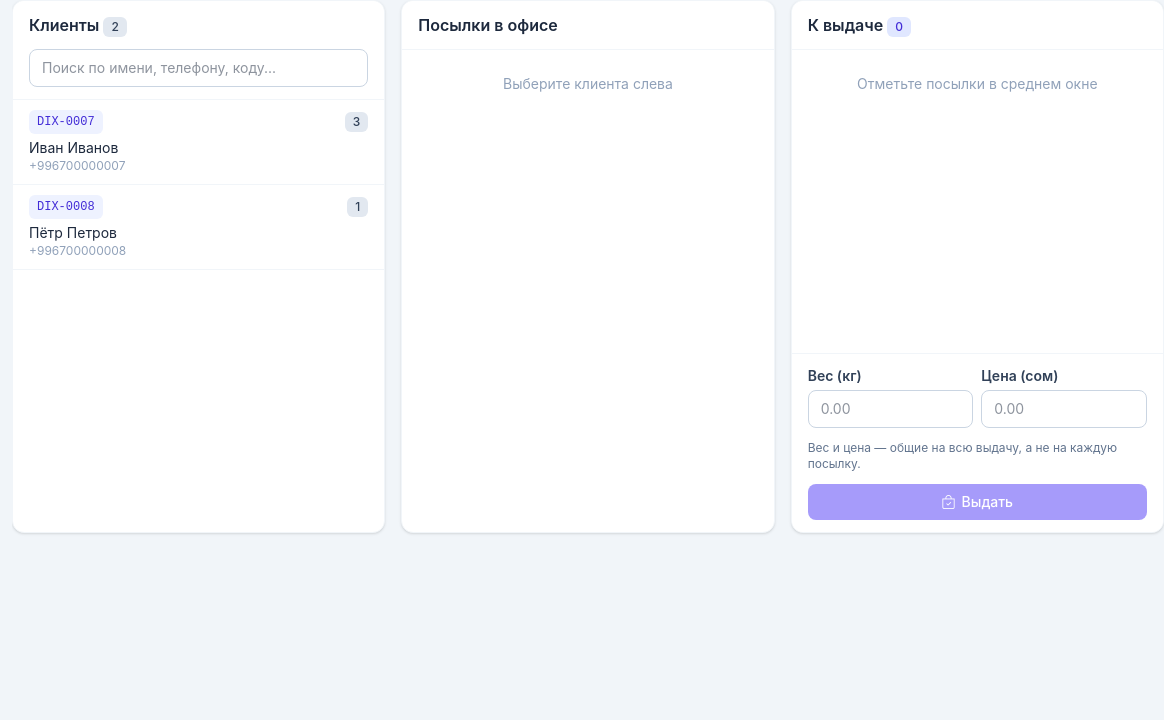
DeliveryView › moves checked packages into the third window
Click the button with test id "client-row" that starts with "DIX-0007" at (66,122), box [13,100,384,185]
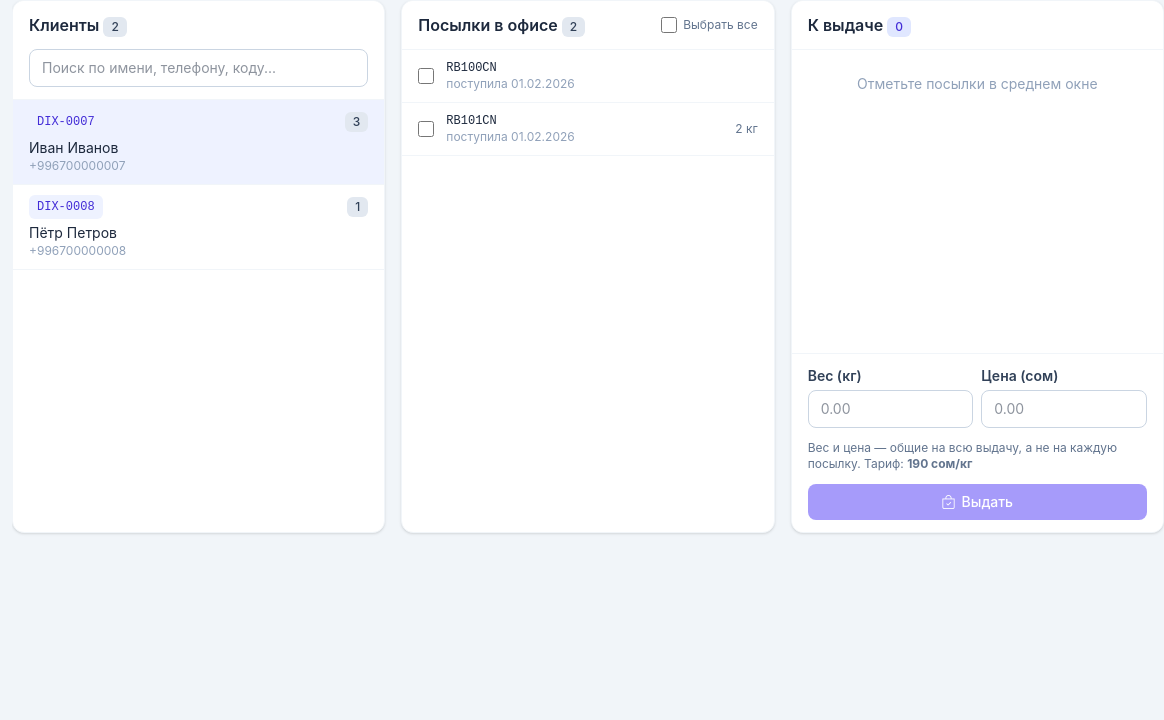
Click the checkbox labelled "RB100CN поступила 01.02.2026" at (426,76), box [418,68,434,84]
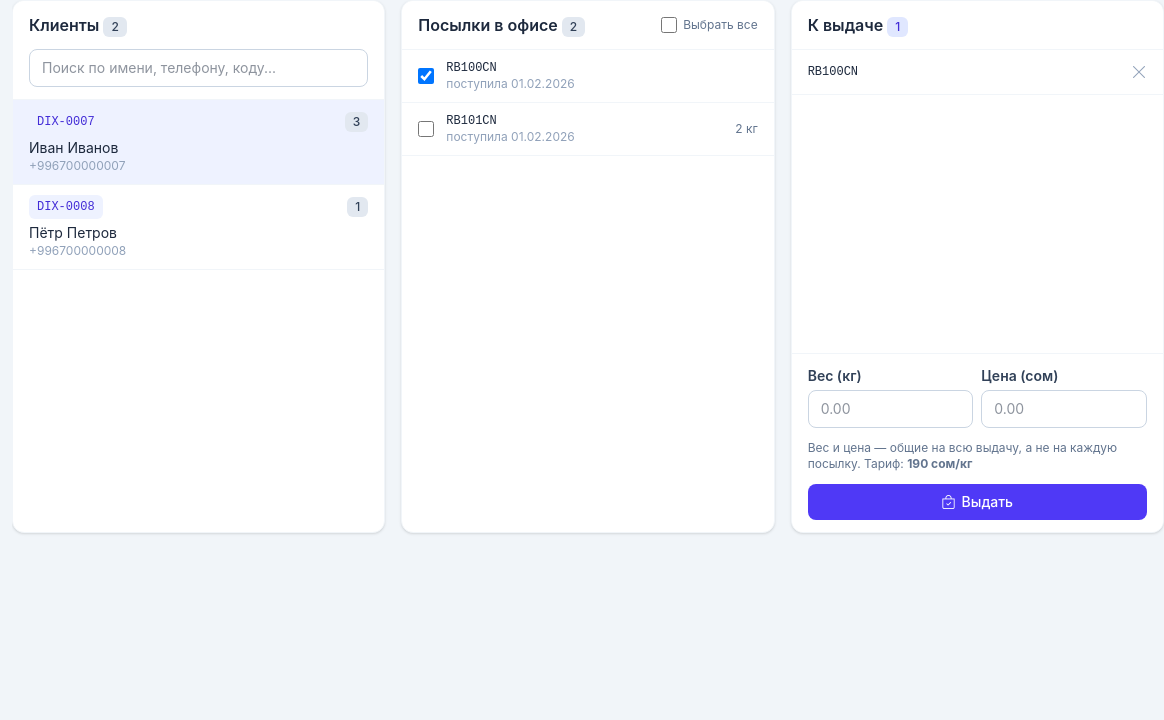
Now the number of elements with test id "deliver-row" is 1, box [792,50,1163,95]
